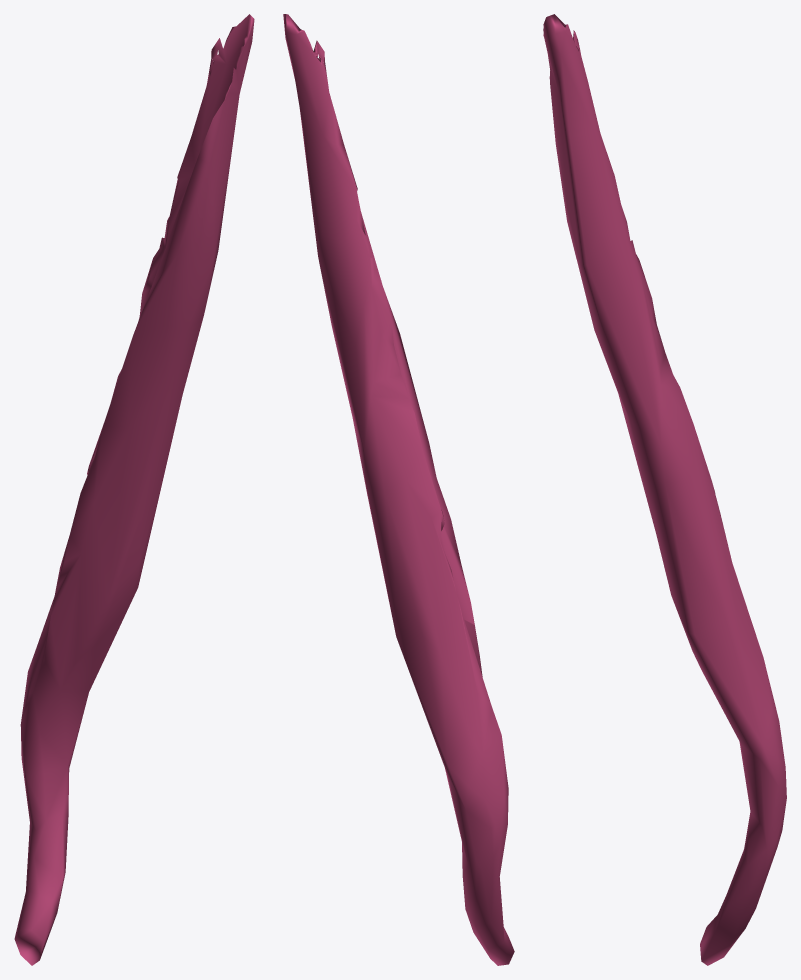
The picture shows the model from 3 angles, left to right: view 1: azimuth 30°, elevation 25°; view 2: azimuth 210°, elevation 25°; view 3: azimuth 270°, elevation 25°; orthographic projection. The views are drawn at different scales.
Visible parts, largest first — view 1: 右侧足蚓状肌; view 2: 右侧足蚓状肌; view 3: 右侧足蚓状肌.
Part boxes in pixels (x1,y1,x2,y2): 右侧足蚓状肌: (14, 14, 254, 965); 右侧足蚓状肌: (283, 14, 514, 965); 右侧足蚓状肌: (543, 14, 786, 965).
Bounding box in the file's own units: 0.0231 × 0.1384 × 0.0298.
